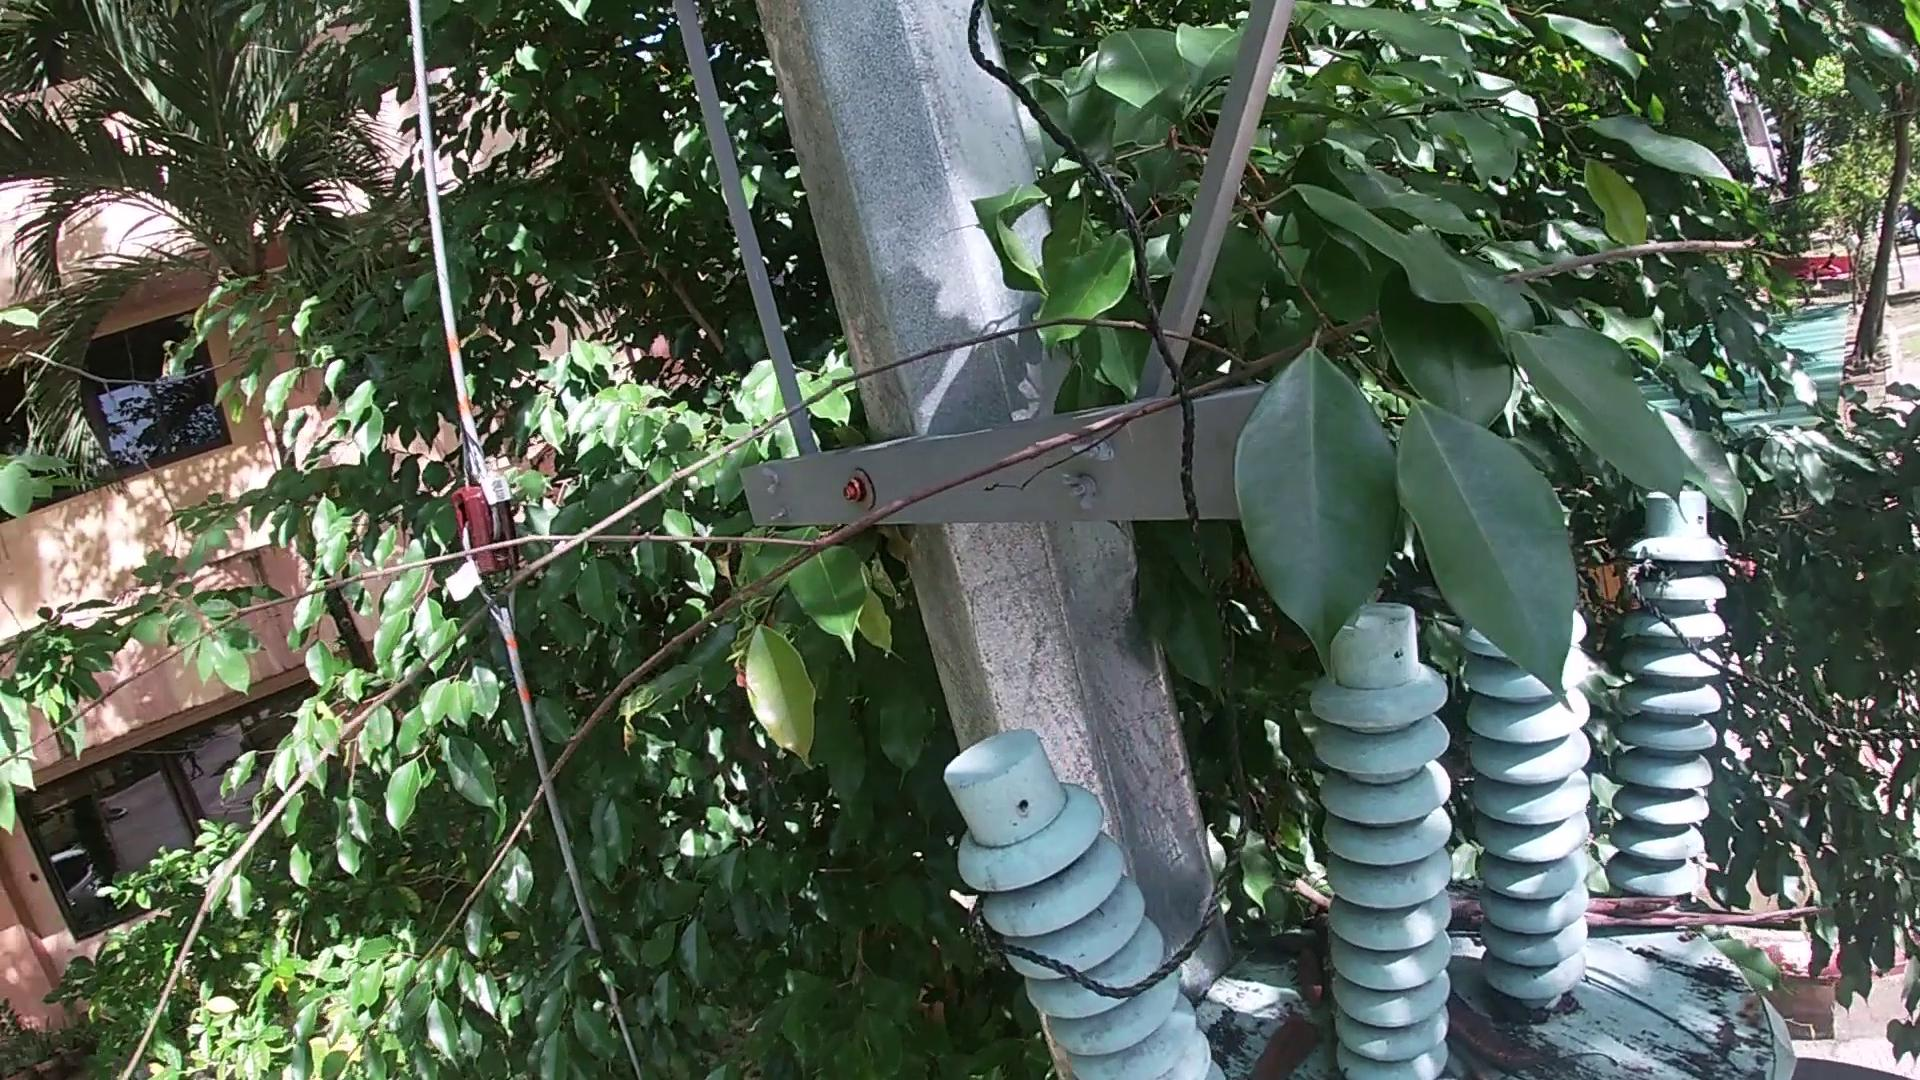leaf: (1233, 1027, 1320, 1075), (1294, 951, 1332, 1019)
mahogany fruit: (1436, 994, 1548, 1064)
tree branch: (78, 207, 1805, 1071), (1578, 977, 1755, 1077), (1569, 891, 1846, 935), (1292, 870, 1335, 903), (1447, 909, 1487, 934), (1313, 909, 1336, 942)
